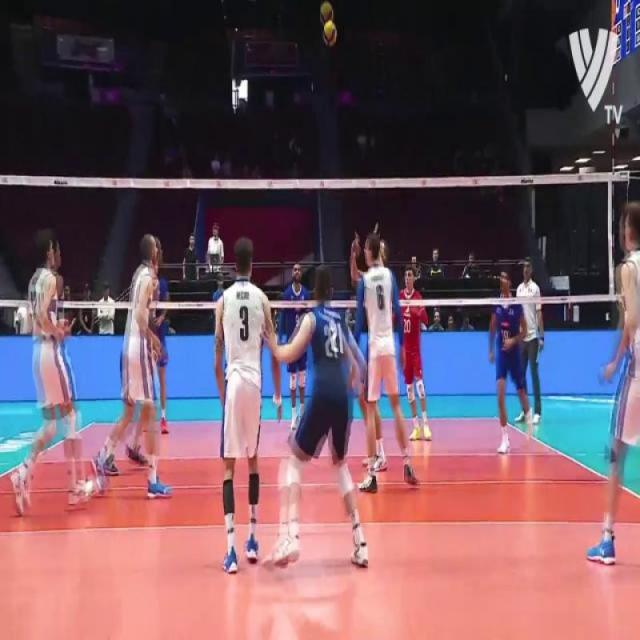volleyball: (322, 20, 338, 47)
